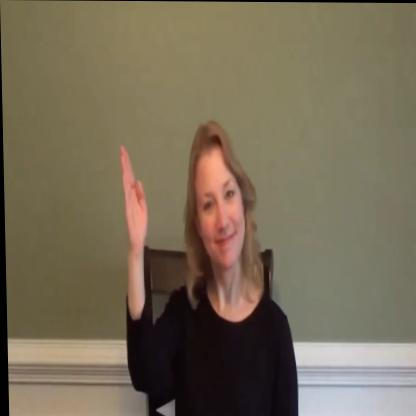Hello: (112, 116, 290, 348)
